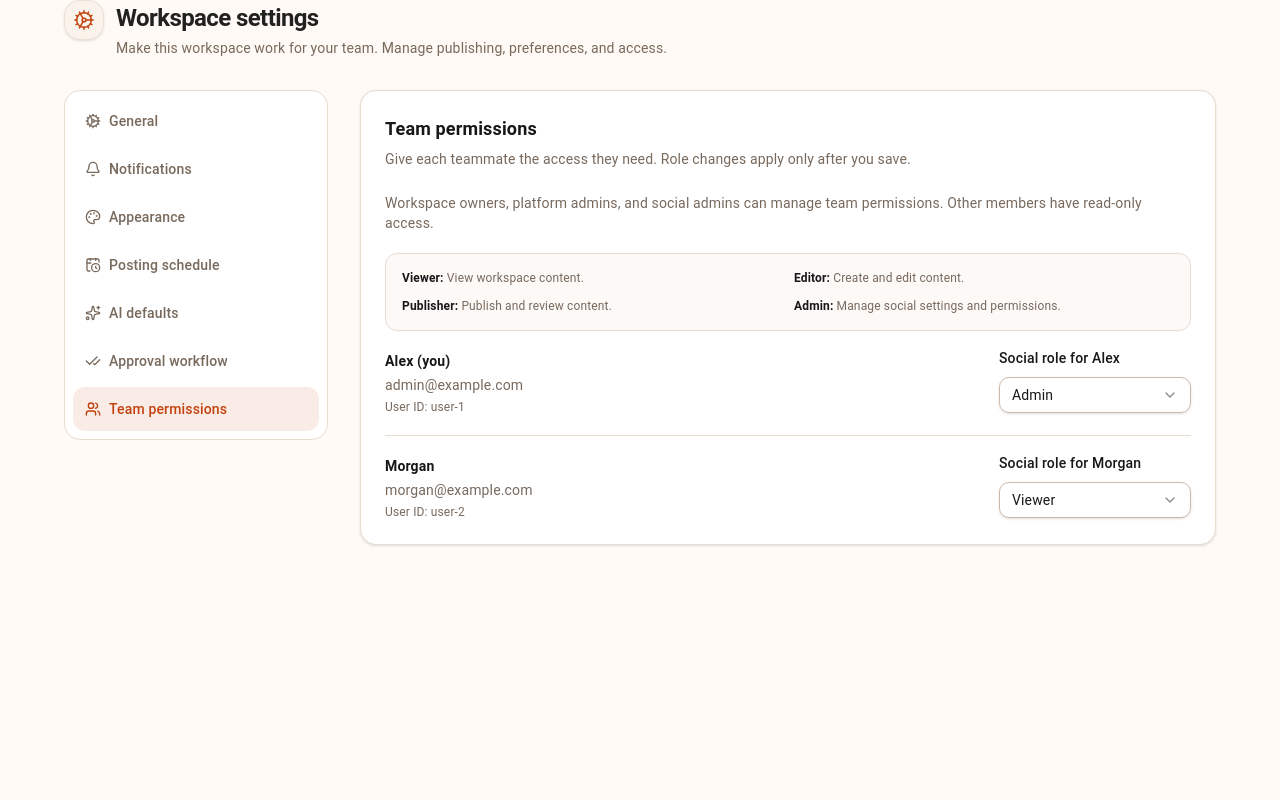
Test case: SocialTeamPermissions › allows a platform administrator to prepare role changes
Click the dropdown named "Social role for Morgan" at (1095, 500), box [999,482,1191,518]
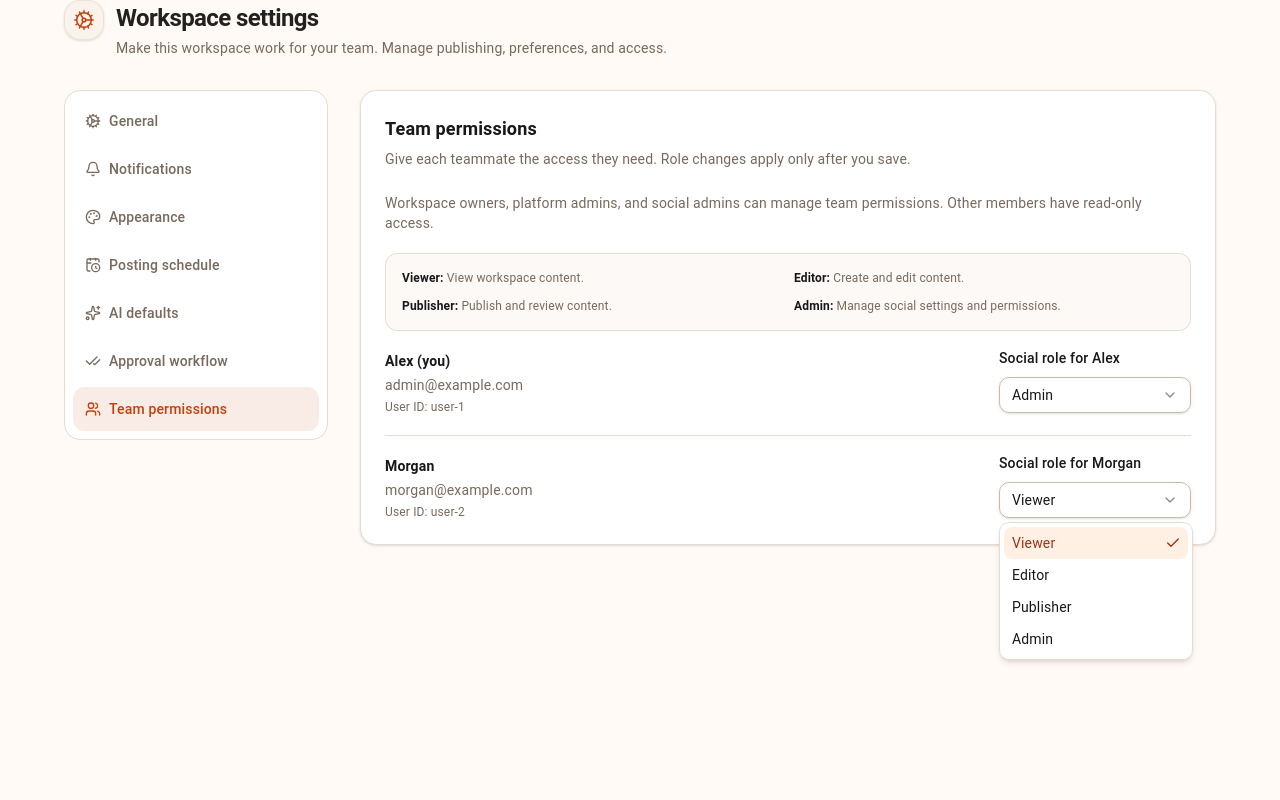
Click the option "Editor" at (1031, 575), box [1012,567,1049,583]
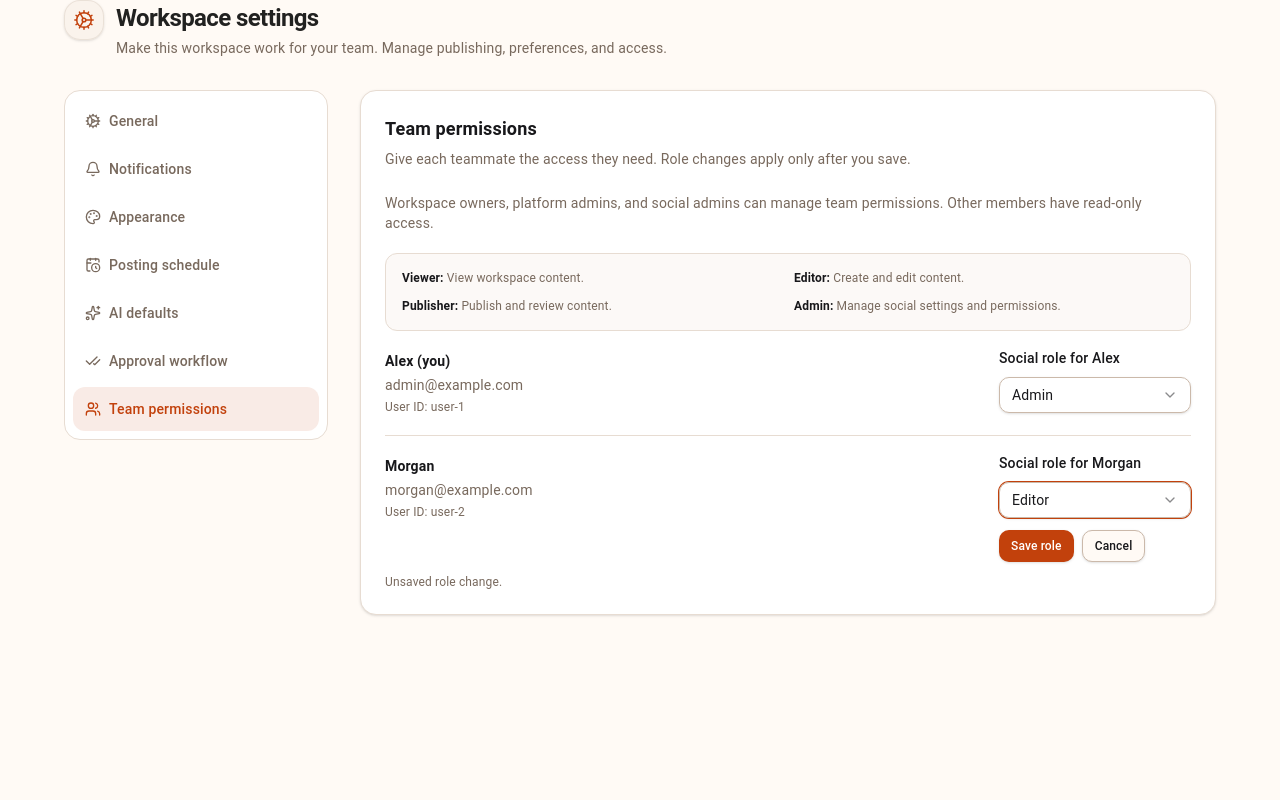
Expected: the button with aria-label "Save role for Morgan" is shown, [999,530,1074,562]
